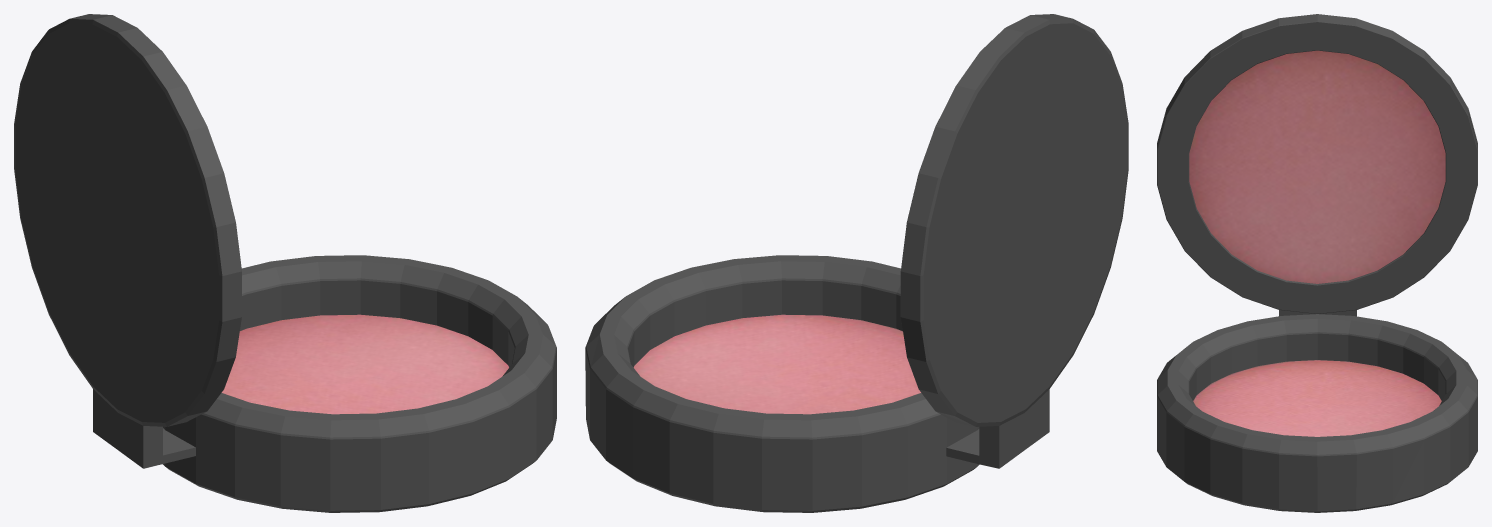
Rendered from Beauty_Product_01.fbx.
3 views of the same model, side by side, from view 1: azimuth 30°, elevation 25°; view 2: azimuth 150°, elevation 25°; view 3: azimuth 270°, elevation 25° (orthographic). The views are drawn at different scales.
Visible parts, largest first — view 1: Beauty_Product; view 2: Beauty_Product; view 3: Beauty_Product, Mirrior.
Boxes of the visible parts, box(x1,y1,x2,y2) form: Beauty_Product: box(14, 14, 556, 512); Beauty_Product: box(585, 14, 1128, 512); Beauty_Product: box(1157, 14, 1477, 512); Mirrior: box(1189, 50, 1445, 283).
Size of the model in its own units: 243 by 254 by 213.
